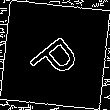P_NE: (24, 25, 86, 85)
